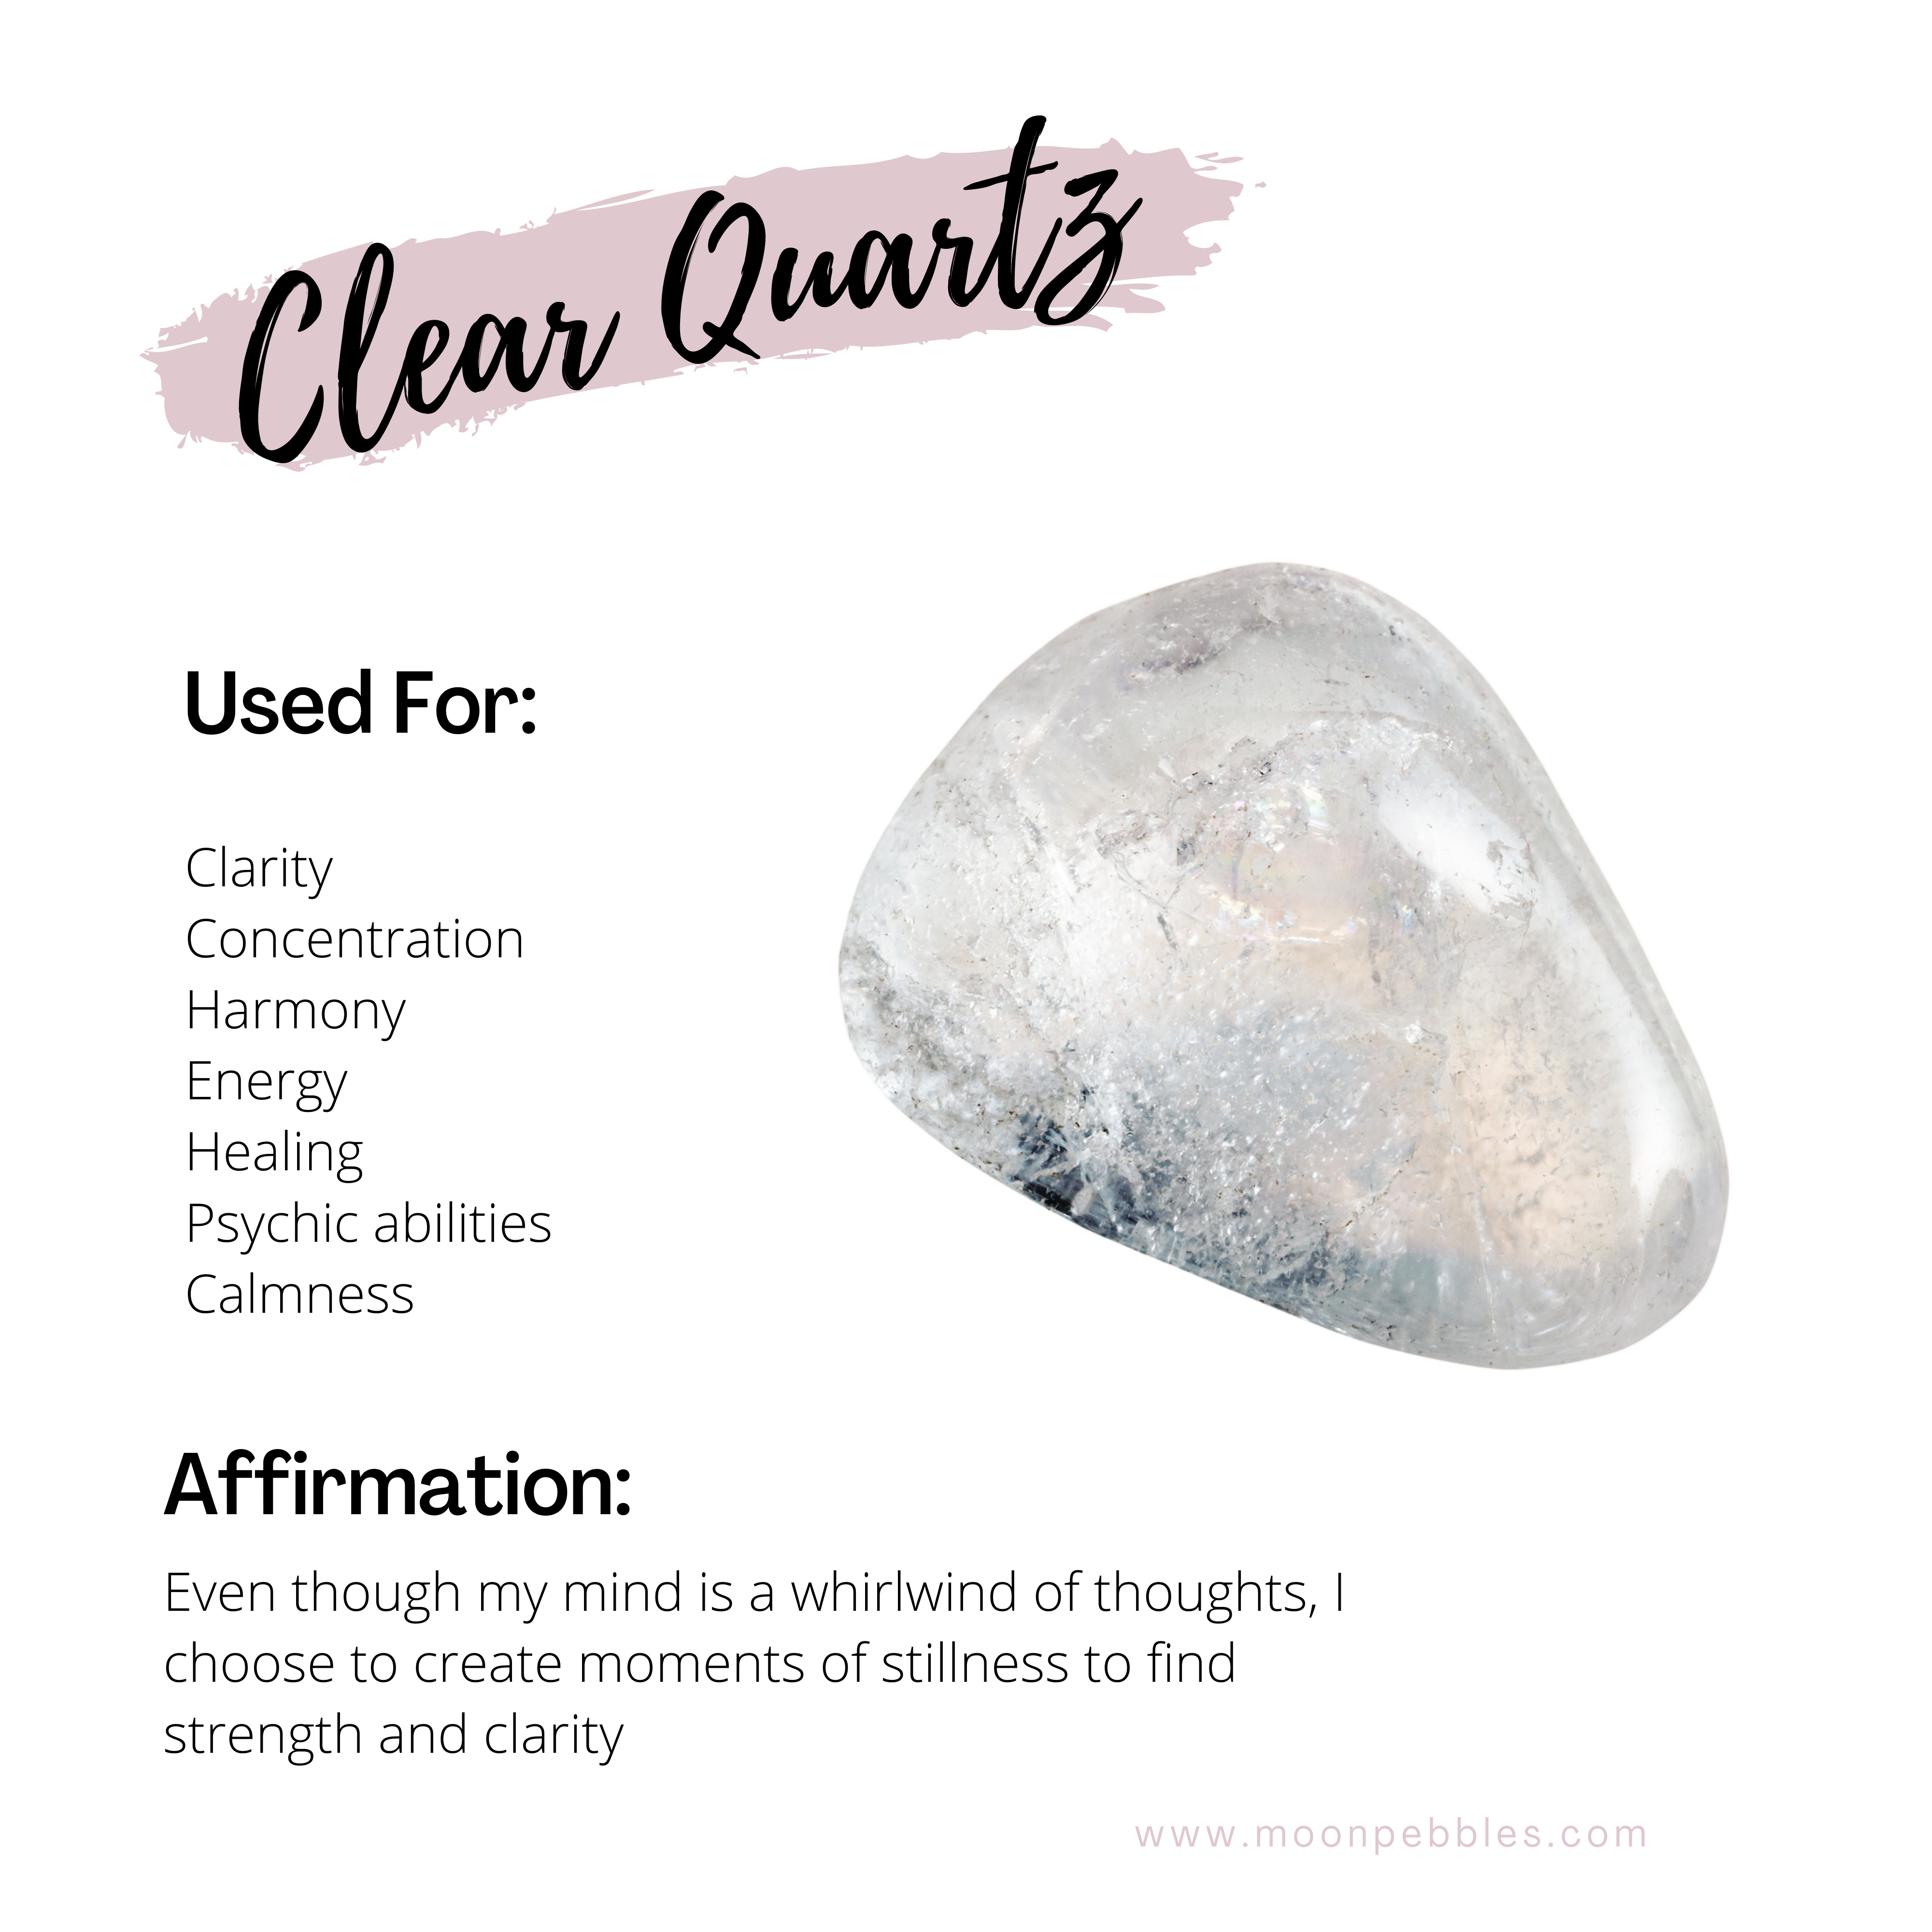Clear_Quartz: (832, 550, 1744, 1373)
